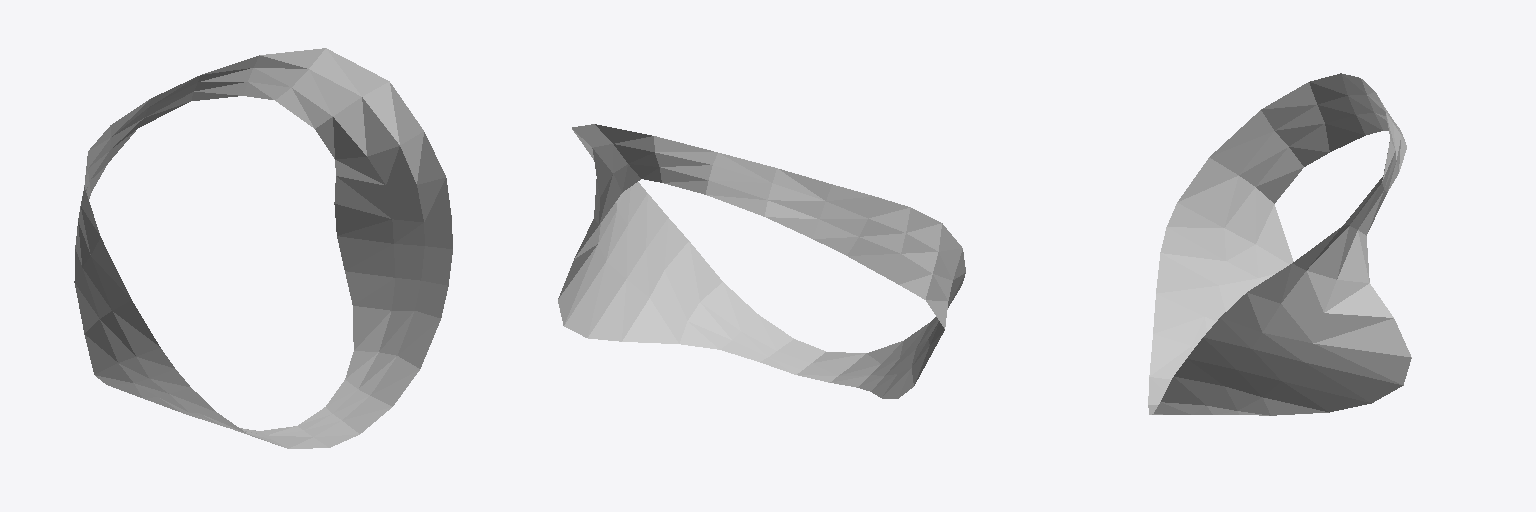
The model's file is RHipPitch_flexibleskin.obj.
3 views of the same model, side by side, from view 1: azimuth 30°, elevation 25°; view 2: azimuth 150°, elevation 25°; view 3: azimuth 270°, elevation 25° (orthographic).
Bounding box in the file's own units: 0.1803 × 0.1443 × 0.1181.